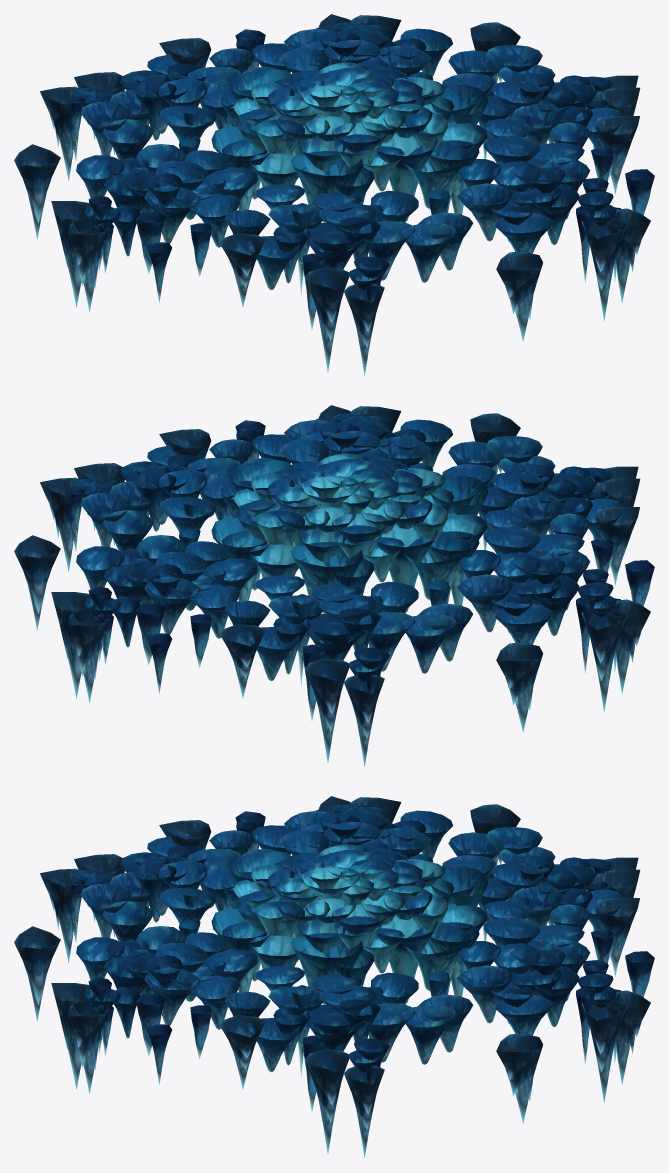
The model's file is BingYingZhong_BingDing_1.FBX.
The picture shows the model from 3 angles, top to bottom: view 1: azimuth 30°, elevation 25°; view 2: azimuth 150°, elevation 25°; view 3: azimuth 270°, elevation 25°; orthographic projection.
Parts seen in each view (by area): view 1: BingYingZhong_Bing_1; view 2: BingYingZhong_Bing_1; view 3: BingYingZhong_Bing_1.
Part boxes in pixels (x1,y1,x2,y2): BingYingZhong_Bing_1: (14,14,654,375); BingYingZhong_Bing_1: (14,405,654,766); BingYingZhong_Bing_1: (14,796,654,1157).
Size of the model in its own units: 4652 by 1208 by 4368.
